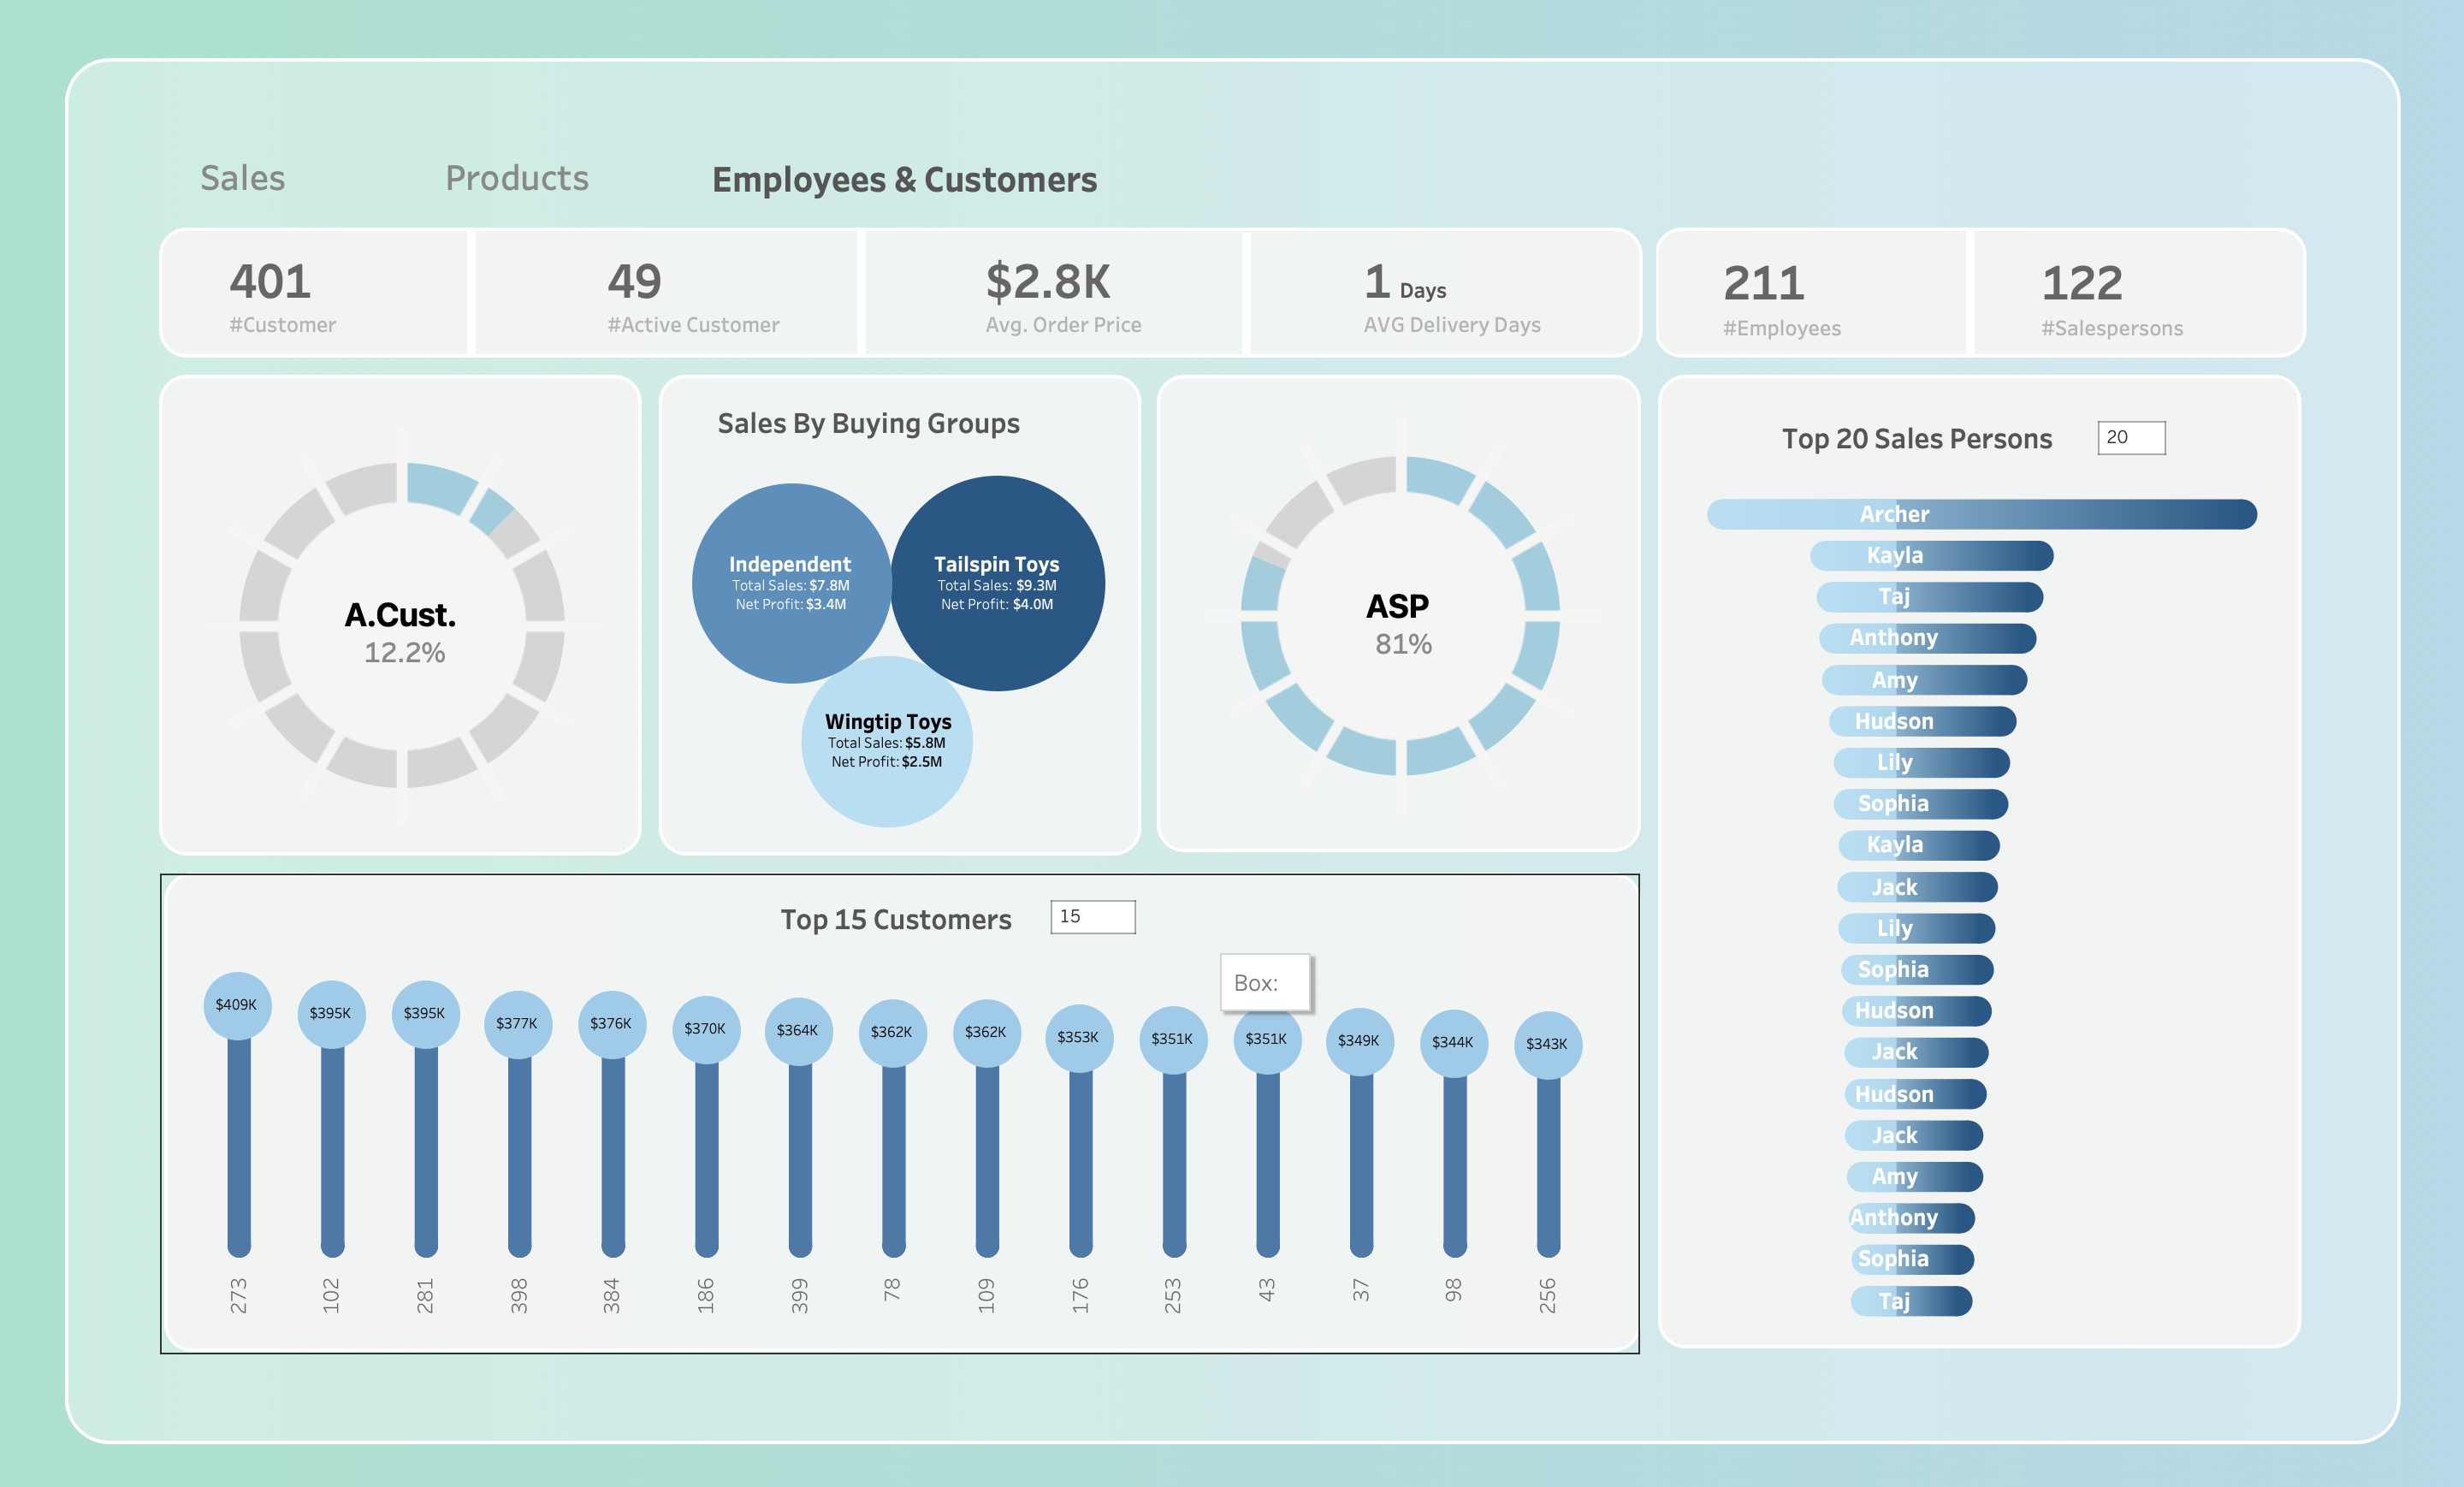

What the dashboard file says about the page in this screenshot:
{"tool":"tableau","page":{"name":"Emp & Customers Dashboard","canvas":[1000,1000],"units":"permille","ordinal":0},"visuals":[{"type":"worksheet","title":"Box","mark":"Automatic","box":[0,28.8,1000,975]},{"type":"dashboard-object","box":[25,81.2,125,66.2]},{"type":"dashboard-object","box":[150,81.2,102.9,66.2]},{"type":"text","box":[252.8,81.2,221.4,66.2]},{"type":"worksheet","title":"Box (4)","mark":"Automatic","box":[48.6,143.8,625.7,98.8]},{"type":"worksheet","title":"Box (9)","mark":"Automatic","box":[674.3,143.8,277.1,98.8]},{"type":"worksheet","title":"EMP&CUST KPIs Matrix (2)","mark":"Automatic","box":[702.1,148.8,265.7,93.8]},{"type":"worksheet","title":"EMP&CUST KPIs Matrix","mark":"Automatic","box":[78.6,156.2,632.1,76.2]},{"type":"worksheet","title":"Day text","mark":"Automatic","box":[567.1,175,47.9,31.2]},{"type":"worksheet","title":"Box (5)","mark":"Automatic","box":[48.6,242.6,208.6,339.3]},{"type":"worksheet","title":"Box (7)","mark":"Automatic","box":[257.1,242.6,208.6,339.3]},{"type":"worksheet","title":"Box (6)","mark":"Automatic","box":[465.7,242.6,208.6,339.3]},{"type":"worksheet","title":"Box (2)","mark":"Automatic","box":[674.3,242.6,277.2,678.7]},{"type":"text","box":[261.4,262.5,174.3,37.5]},{"type":"worksheet","title":"A.Cust","mark":"Pie","cols":["Calculation_0742859063345158","Calculation_0742859063357448"],"box":[55,266.2,197.1,306.2]},{"type":"worksheet","title":"ASP","mark":"Pie","cols":["Calculation_0742859063345158","Calculation_0742859063357448"],"box":[472.9,268.8,195,288.8]},{"type":"text","box":[727.9,273.8,152.1,37.5]},{"type":"parameter","param":"[Parameters].[Parameter 4]","box":[859.3,276.2,32.9,37.5]},{"type":"worksheet","title":"Buying Groups","mark":"Circle","box":[273.6,295,178.6,282.5]},{"type":"worksheet","title":"Sales Person (2)","mark":"Bar","rows":["Salesperson Key"],"cols":["Calculation_0742859284729945"],"box":[687.1,328.8,251.4,562.5]},{"type":"worksheet","title":"Box (8)","mark":"Automatic","box":[48.6,581.9,625.7,339.3]},{"type":"text","box":[272.9,600,174.3,37.5]},{"type":"parameter","param":"[Parameters].[Parameter 3]","box":[422.1,602.5,40,33.8]},{"type":"worksheet","title":"Sales By Customers","mark":"Line","rows":["Total Including Tax"],"cols":["Customer Key"],"box":[65.7,648.8,585.7,255]}]}

Visuals, with their boxes on the dashboard's canvas, which has no fixed pixel size, in thousandths of its width and height (x1, y1, x2, y2). These are canvas units, not pixel positions in the 2464x1487 screenshot, which may show the page scaled, cropped or inside an application window:
"Box" worksheet: select_region(0, 29, 1000, 1004)
dashboard-object: select_region(25, 81, 150, 147)
dashboard-object: select_region(150, 81, 253, 147)
text: select_region(253, 81, 474, 147)
"Box (4)" worksheet: select_region(49, 144, 674, 243)
"Box (9)" worksheet: select_region(674, 144, 951, 243)
"EMP&CUST KPIs Matrix (2)" worksheet: select_region(702, 149, 968, 243)
"EMP&CUST KPIs Matrix" worksheet: select_region(79, 156, 711, 232)
"Day text" worksheet: select_region(567, 175, 615, 206)
"Box (5)" worksheet: select_region(49, 243, 257, 582)
"Box (7)" worksheet: select_region(257, 243, 466, 582)
"Box (6)" worksheet: select_region(466, 243, 674, 582)
"Box (2)" worksheet: select_region(674, 243, 952, 921)
text: select_region(261, 262, 436, 300)
"A.Cust" worksheet (Pie marks): select_region(55, 266, 252, 572)
"ASP" worksheet (Pie marks): select_region(473, 269, 668, 558)
text: select_region(728, 274, 880, 311)
parameter: select_region(859, 276, 892, 314)
"Buying Groups" worksheet (Circle marks): select_region(274, 295, 452, 578)
"Sales Person (2)" worksheet (Bar marks): select_region(687, 329, 938, 891)
"Box (8)" worksheet: select_region(49, 582, 674, 921)
text: select_region(273, 600, 447, 638)
parameter: select_region(422, 602, 462, 636)
"Sales By Customers" worksheet (Line marks): select_region(66, 649, 651, 904)
